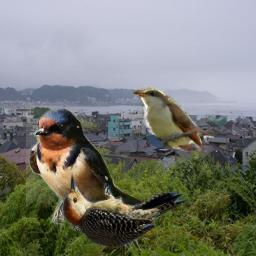Cuckoo: (130, 83, 214, 152)
Swallow: (26, 107, 142, 253)
Woodpecker: (52, 170, 191, 249)
